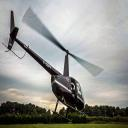helicopter: (3, 7, 105, 122)
